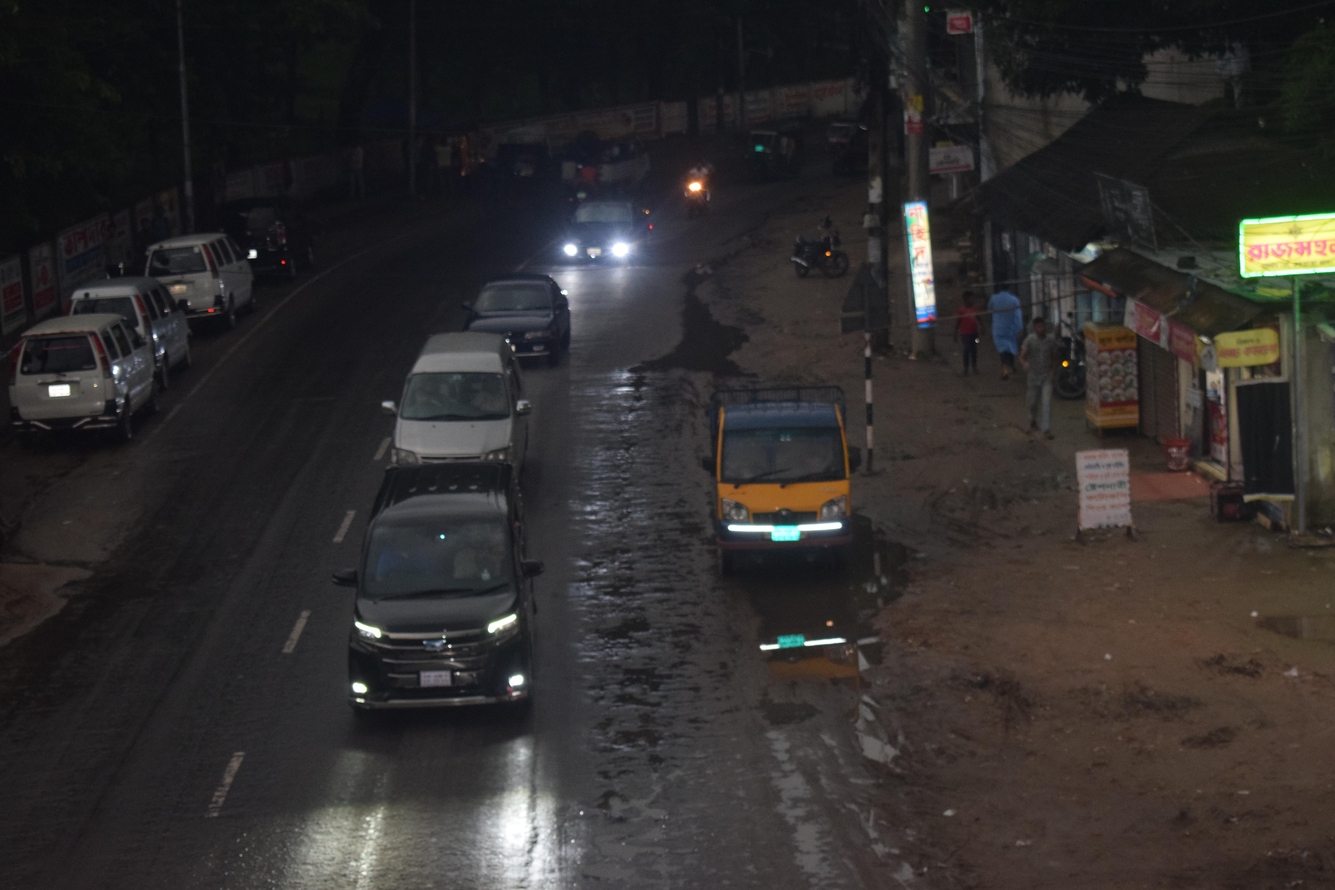Bike: (758, 206, 872, 299)
Car: (302, 457, 565, 758), (327, 314, 556, 519), (0, 307, 166, 473), (424, 259, 581, 381), (49, 260, 199, 386), (145, 213, 264, 339), (534, 182, 665, 282)
Truck: (651, 355, 884, 605)
